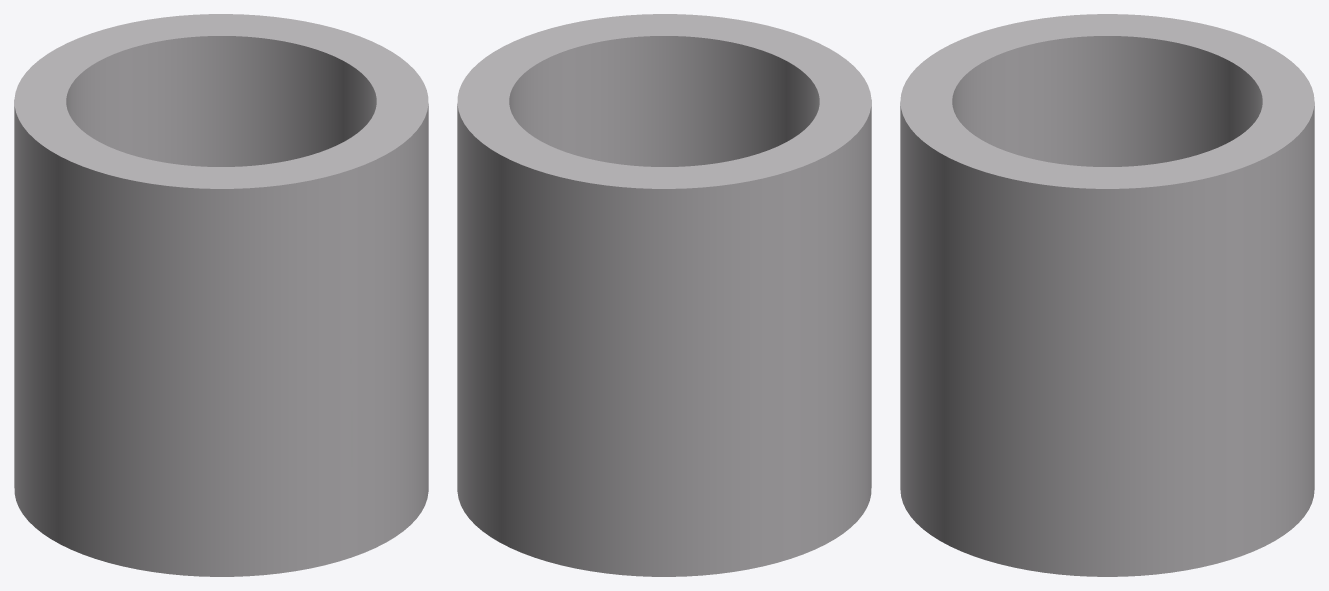
3 views of the same model, side by side, from view 1: azimuth 30°, elevation 25°; view 2: azimuth 150°, elevation 25°; view 3: azimuth 270°, elevation 25° (orthographic).
Visible parts, largest first — view 1: root; view 2: root; view 3: root.
Boxes of the visible parts, x1=… form: root: x1=14, y1=14, x2=428, y2=576; root: x1=457, y1=14, x2=871, y2=576; root: x1=900, y1=14, x2=1314, y2=576.
Size of the model in its own units: 0.2843 by 0.2938 by 0.2843.
Materials: 1 (1 with a texture image).
